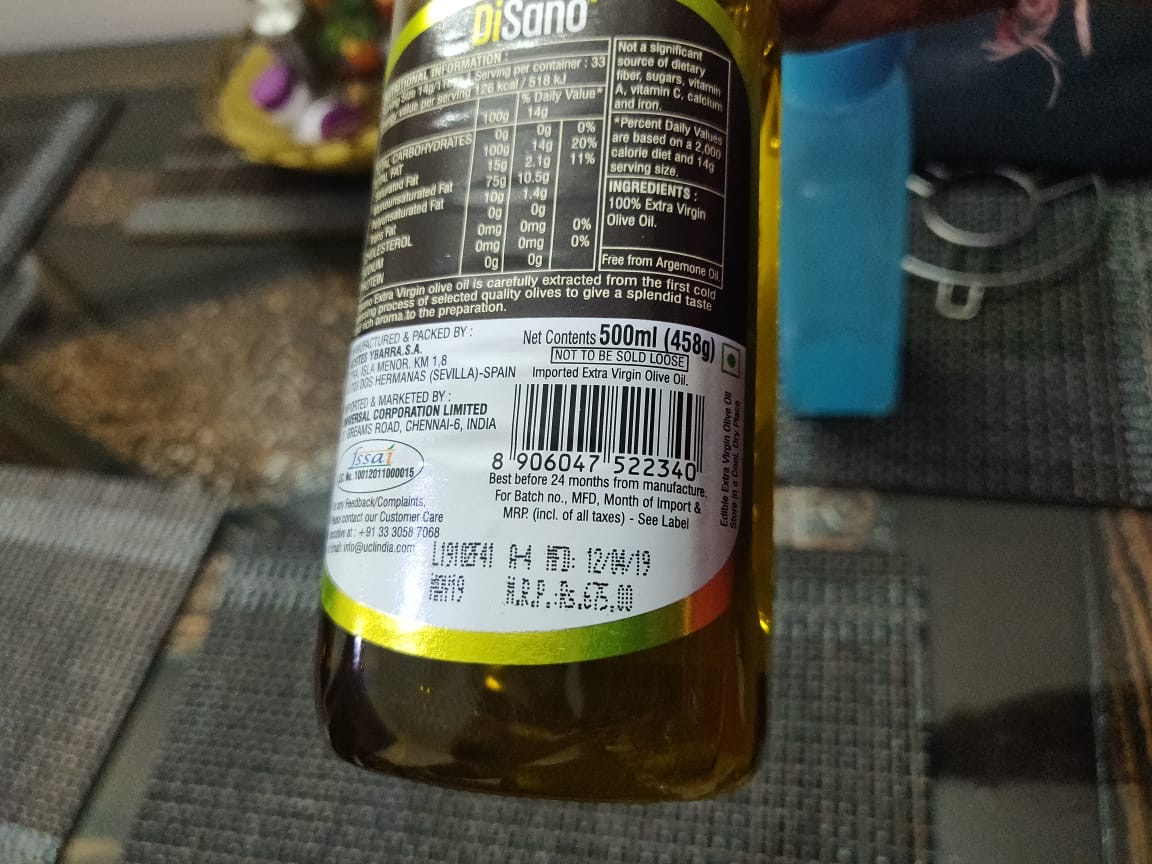barcode: (487, 375, 709, 487)
